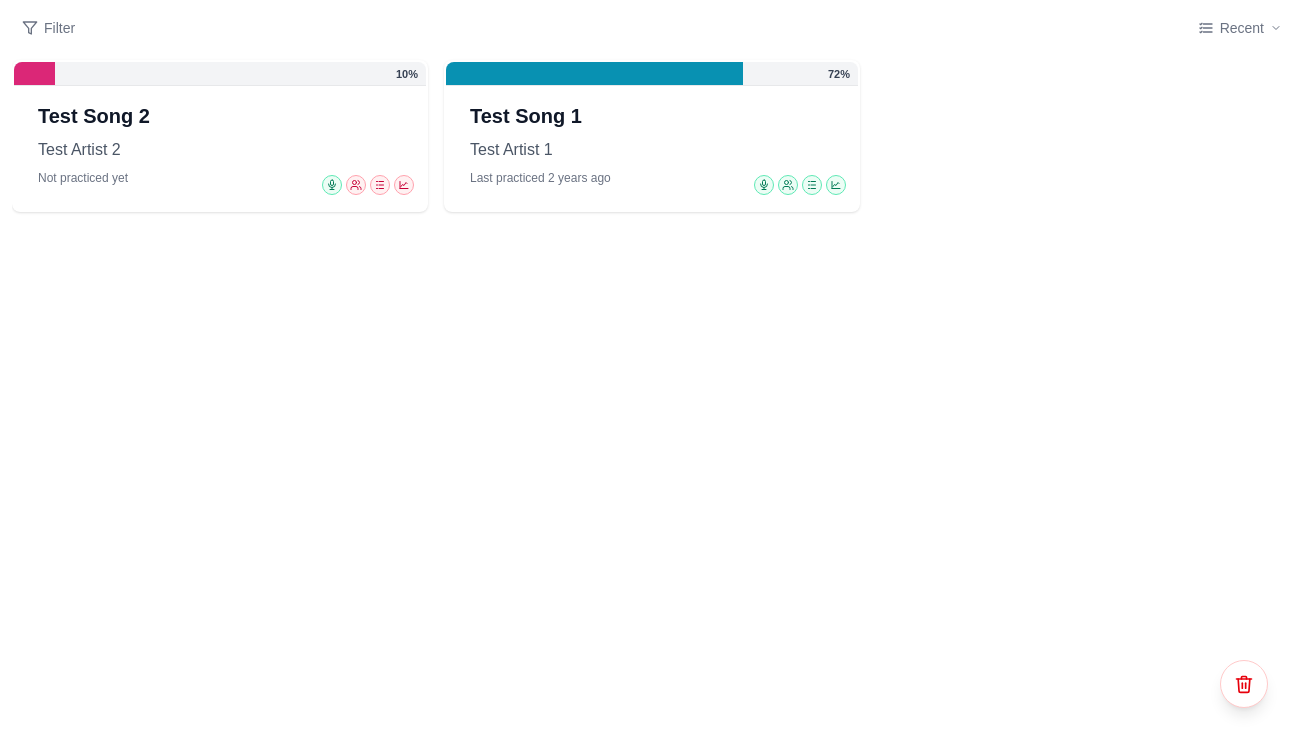
Test: SongBrowser › shows warning when delete succeeds but audio cleanup warning is returned
Expected: the element with test id "song-item-song-1" is shown, [444,60,860,212]
Click the button with test id "song-browser-toggle-edit-mode": click(1244, 684) [1220,660,1268,708]
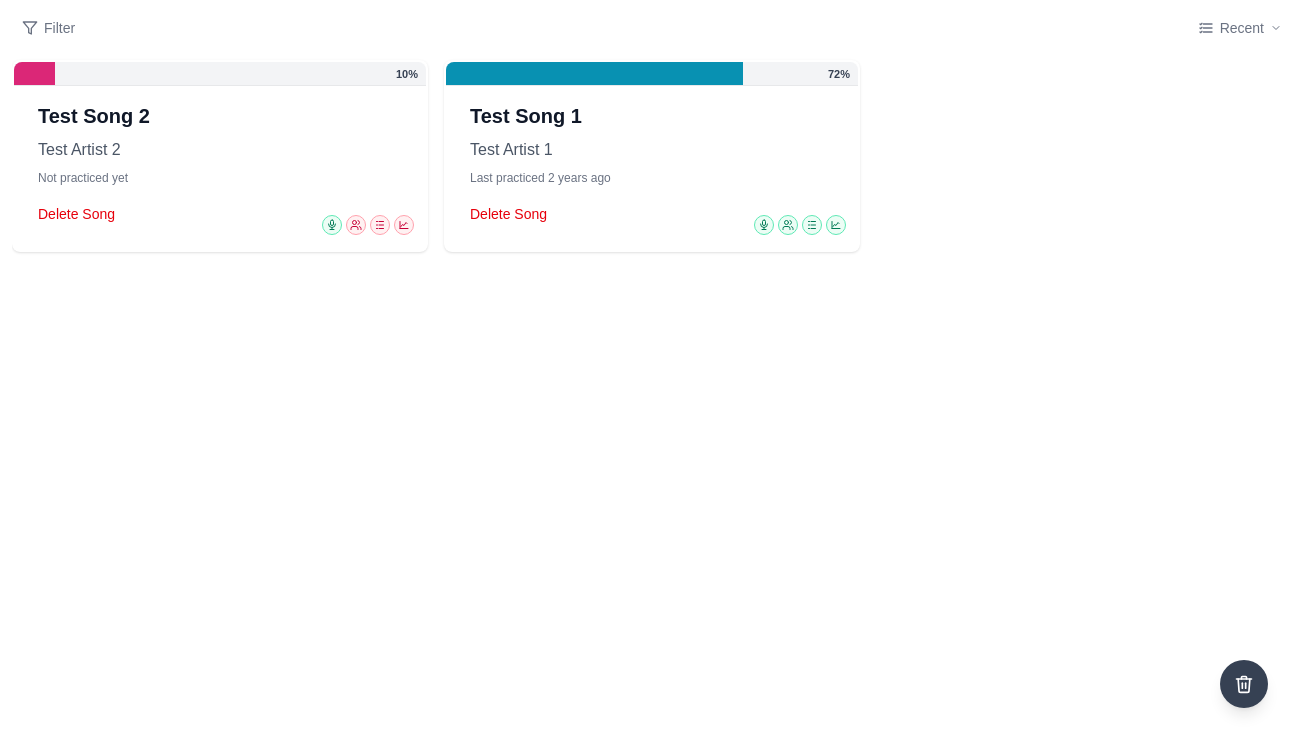
Click the button with test id "song-delete-song-1": click(509, 214) [470,204,547,224]
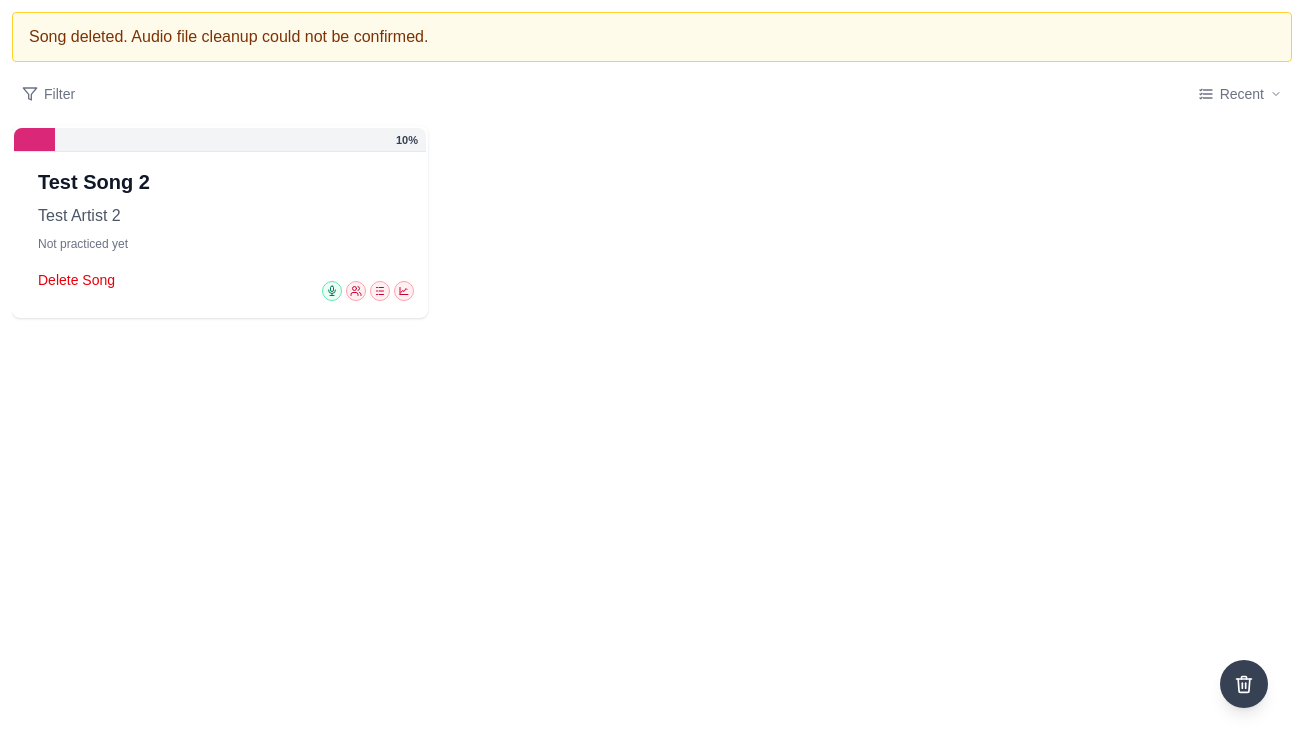
Result: the text with test id "song-browser-warning" reads "Song deleted. Audio file cleanup could not be confirmed." at [29,28,428,45]
Result: the element with test id "song-item-song-1" is gone
